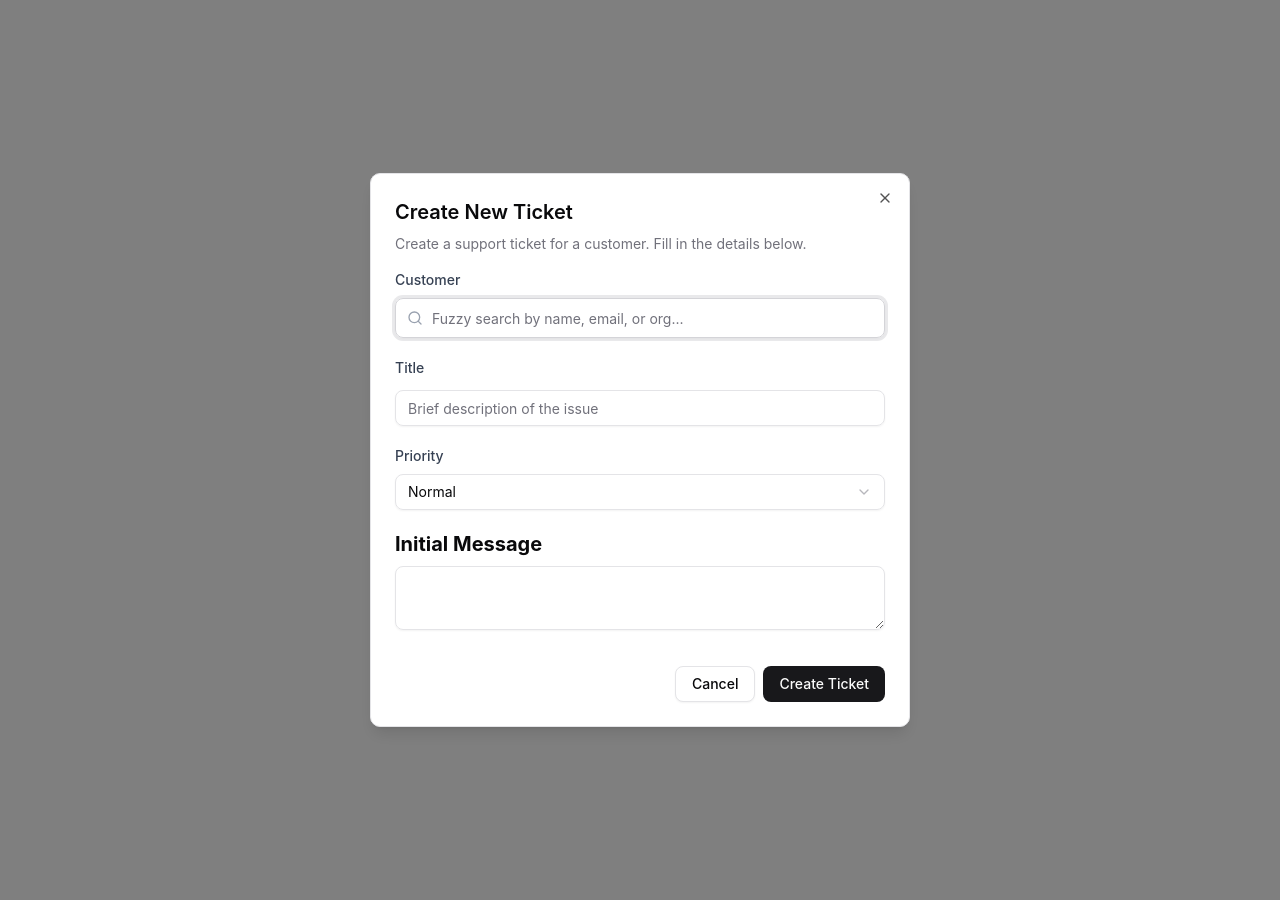
Test case: CreateTicketDialog › Customer Selection › should allow clearing selected customer
Type "John" into the field with placeholder "Fuzzy search by name, email, or org..." at {"x": 640, "y": 318}, box left=395, top=298, right=885, bottom=338
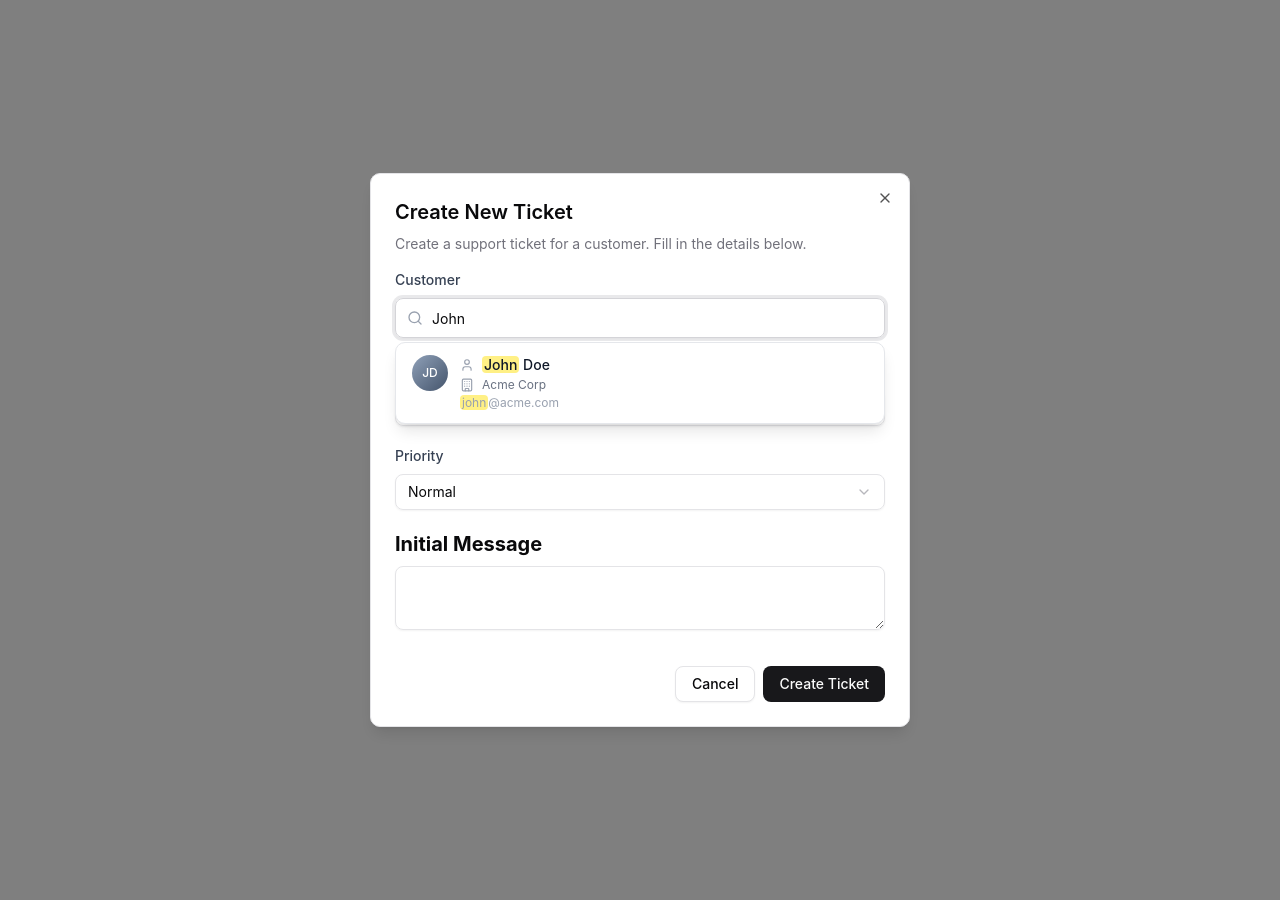
expect the button "JD John Doe Acme Corp john@acme.com" is shown: met
Click the button "JD John Doe Acme Corp john@acme.com" at {"x": 430, "y": 373}, box left=396, top=343, right=884, bottom=423
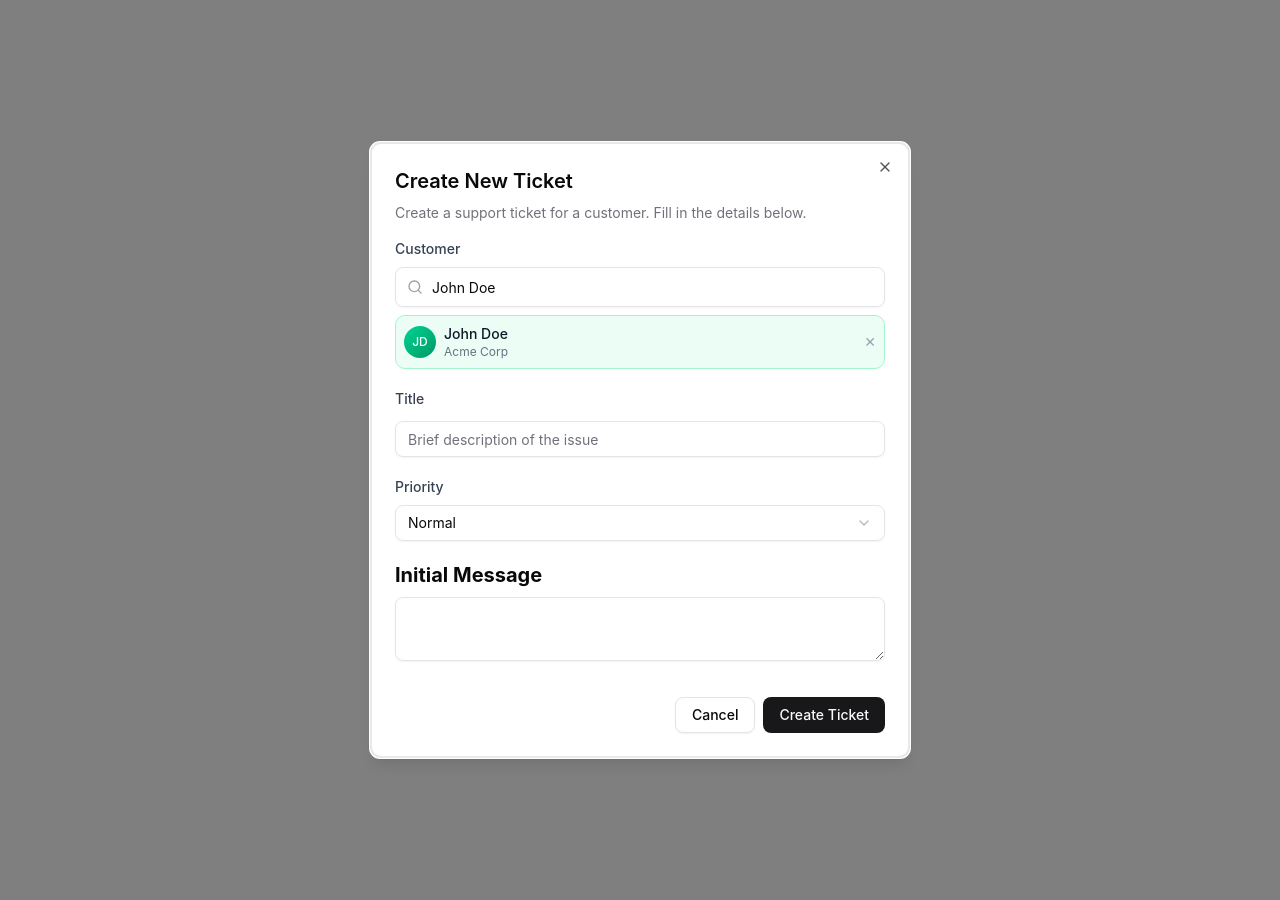
expect the button "✕" is shown: met
Click the button "✕" at {"x": 870, "y": 342}, box left=864, top=332, right=876, bottom=352
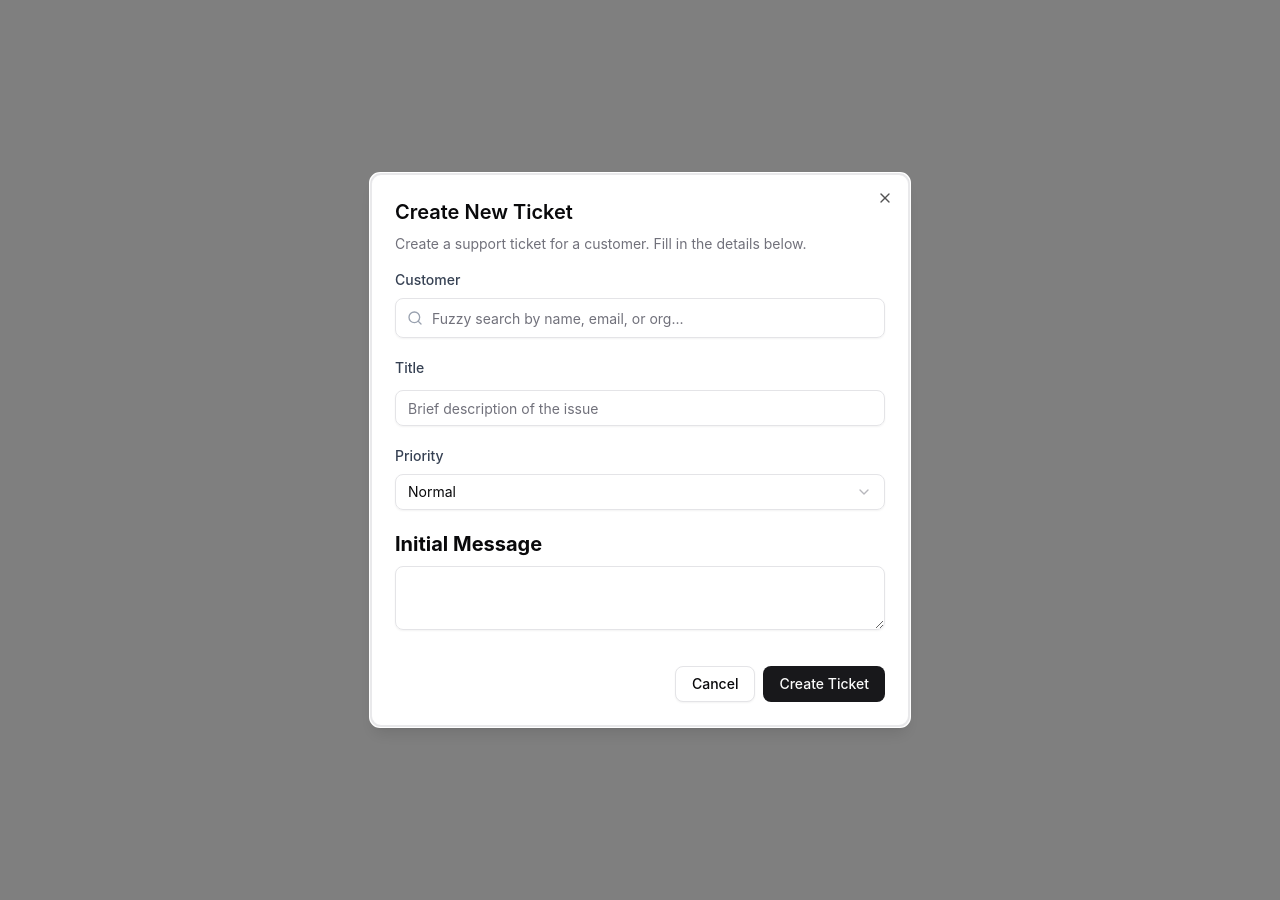
expect the field with placeholder "Fuzzy search by name, email, or org..." is empty: met, box left=395, top=298, right=885, bottom=338
